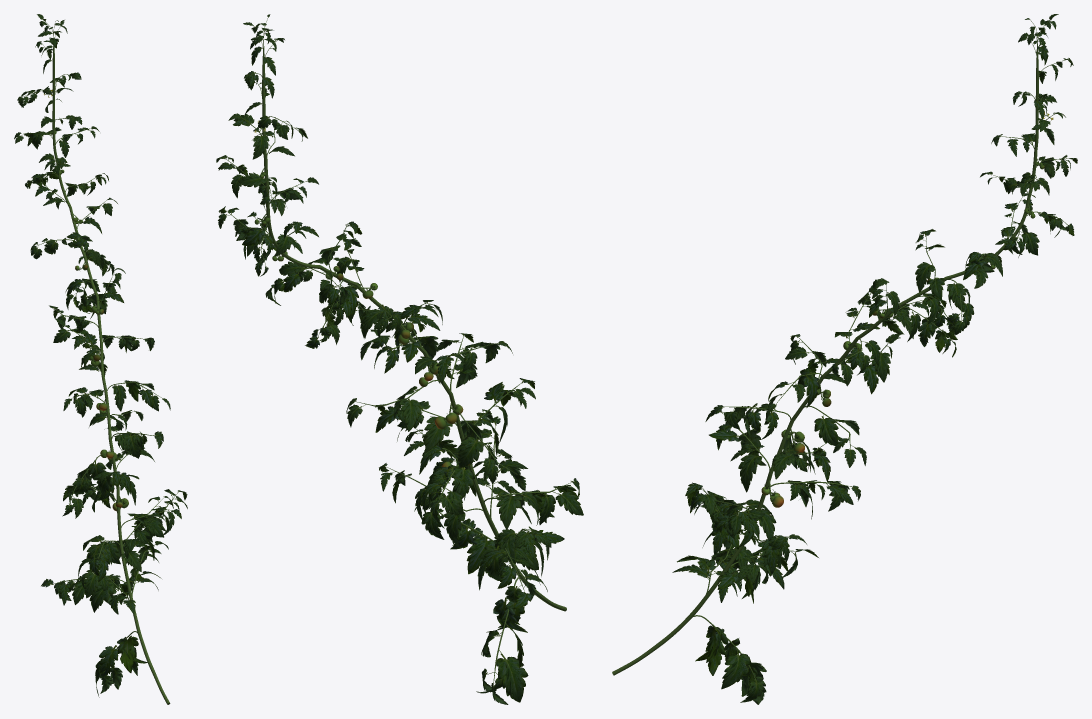
File: tomato_010.glb
3 renders of one model, left to right at view 1: azimuth 30°, elevation 25°; view 2: azimuth 150°, elevation 25°; view 3: azimuth 270°, elevation 25°, orthographic. The views are drawn at different scales.
Visible parts, largest first — view 1: tomato_010; view 2: tomato_010; view 3: tomato_010.
Part boxes in pixels (x1,y1,x2,y2): tomato_010: (14, 14, 187, 704); tomato_010: (216, 14, 583, 704); tomato_010: (612, 14, 1077, 704).
Size of the model in its own units: 0.841 by 3.1 by 1.81.
Materials: 17 (16 with a texture image).
